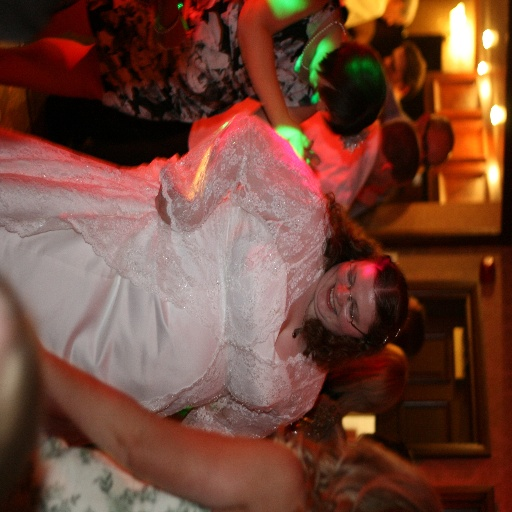hand: (155, 172, 187, 227), (271, 122, 313, 163)
